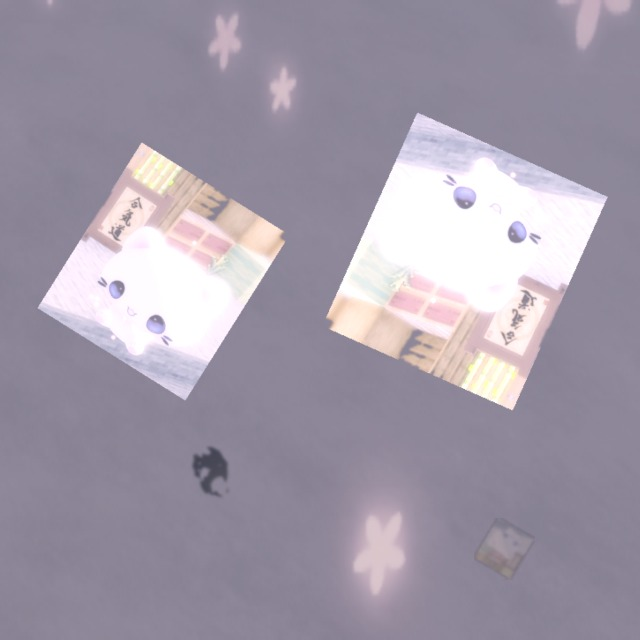urso_branco: (322, 112, 608, 411), (37, 142, 290, 401), (474, 518, 535, 580)
urso_preto: (185, 437, 239, 508)
